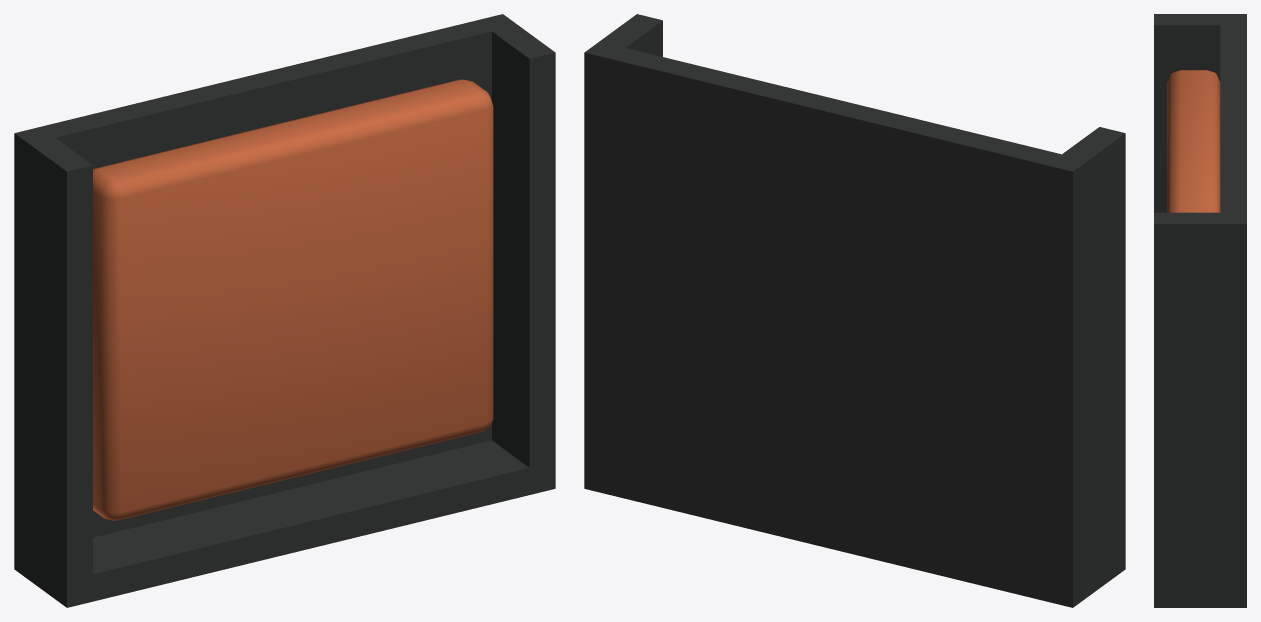
The model's file is soldering_station_sponge_tray.glb.
3 renders of one model, left to right at view 1: azimuth 30°, elevation 25°; view 2: azimuth 150°, elevation 25°; view 3: azimuth 270°, elevation 25°, orthographic. The views are drawn at different scales.
Parts seen in each view (by area): view 1: soldering_station_sponge_tray; view 2: soldering_station_sponge_tray; view 3: soldering_station_sponge_tray.
Part boxes in pixels (bbox=[...]): soldering_station_sponge_tray: bbox=[14, 14, 555, 607]; soldering_station_sponge_tray: bbox=[584, 14, 1125, 607]; soldering_station_sponge_tray: bbox=[1154, 14, 1246, 607].
Size of the model in its own units: 0.075 by 0.064 by 0.014.
